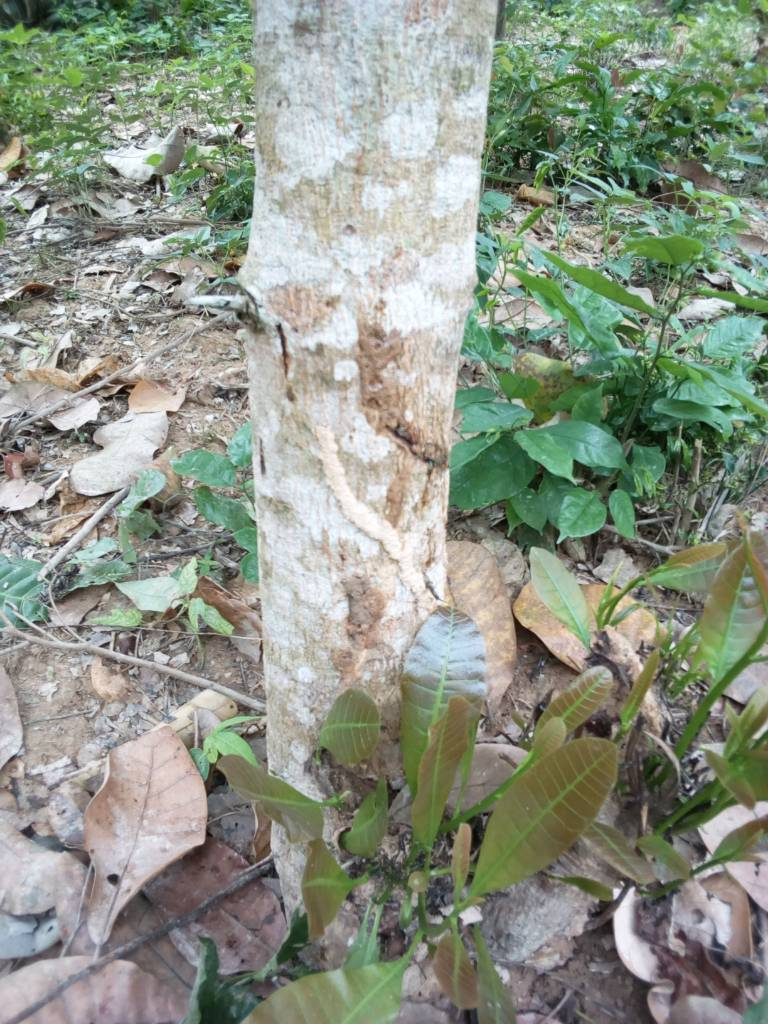Termites: (316, 322, 449, 630)
